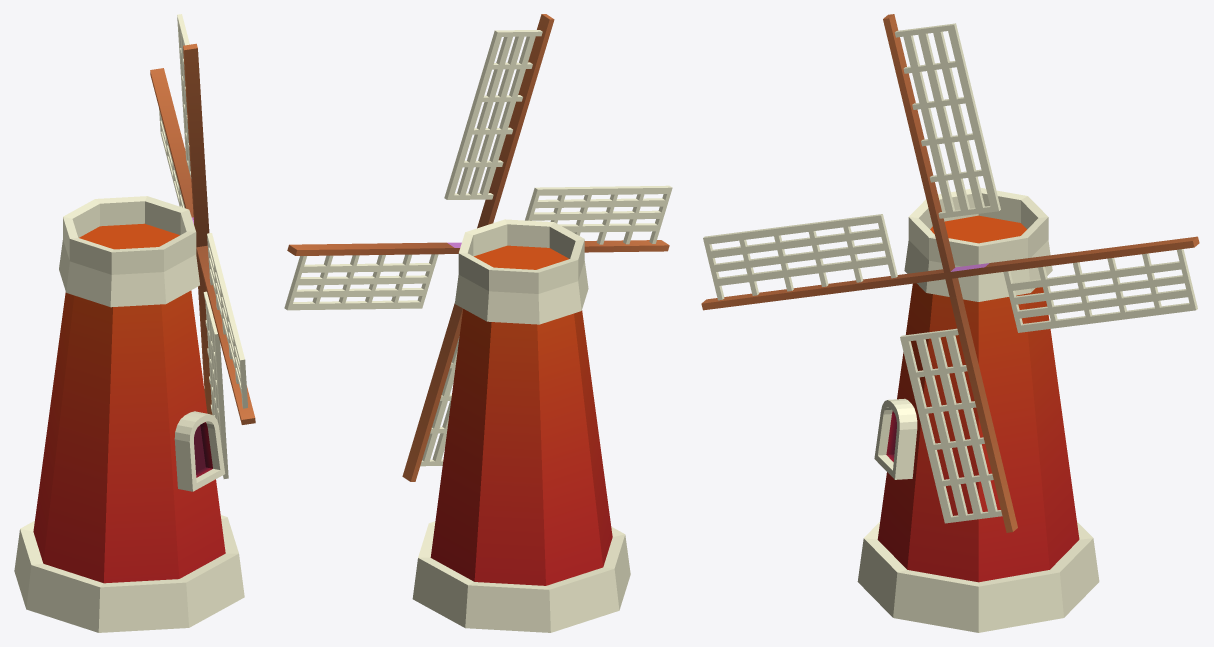
The model's file is FarmMill.fbx.
The picture shows the model from 3 angles, left to right: view 1: azimuth 30°, elevation 25°; view 2: azimuth 150°, elevation 25°; view 3: azimuth 270°, elevation 25°; orthographic projection. The views are drawn at different scales.
Parts seen in each view (by area): view 1: FarmMill; view 2: FarmMill; view 3: FarmMill.
Boxes of the visible parts, bbox=[...] form: FarmMill: bbox=[14, 14, 255, 632]; FarmMill: bbox=[284, 14, 672, 632]; FarmMill: bbox=[701, 14, 1199, 632].
Size of the model in its own units: 1.96 by 4.33 by 3.38.
